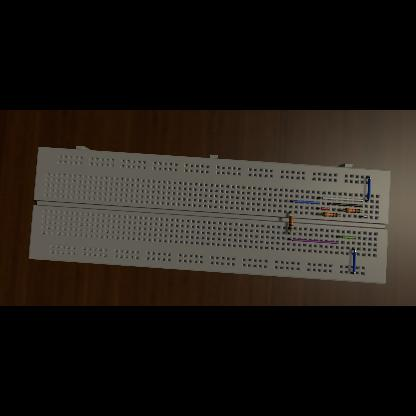breadboard: (29, 146, 391, 284)
resistor: (345, 208, 361, 214), (322, 212, 338, 218), (288, 216, 294, 230)
wire: (288, 238, 338, 244), (317, 197, 363, 201), (365, 177, 371, 201), (350, 250, 356, 274), (290, 200, 320, 204), (336, 236, 356, 240), (328, 204, 362, 206), (316, 208, 330, 210), (358, 216, 368, 218), (289, 212, 291, 216), (316, 213, 322, 214), (288, 232, 290, 235)
